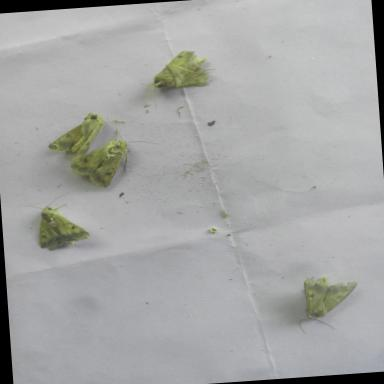abw: (63, 104, 168, 194), (135, 40, 223, 112), (13, 184, 98, 257), (288, 268, 370, 338), (37, 106, 115, 167)
